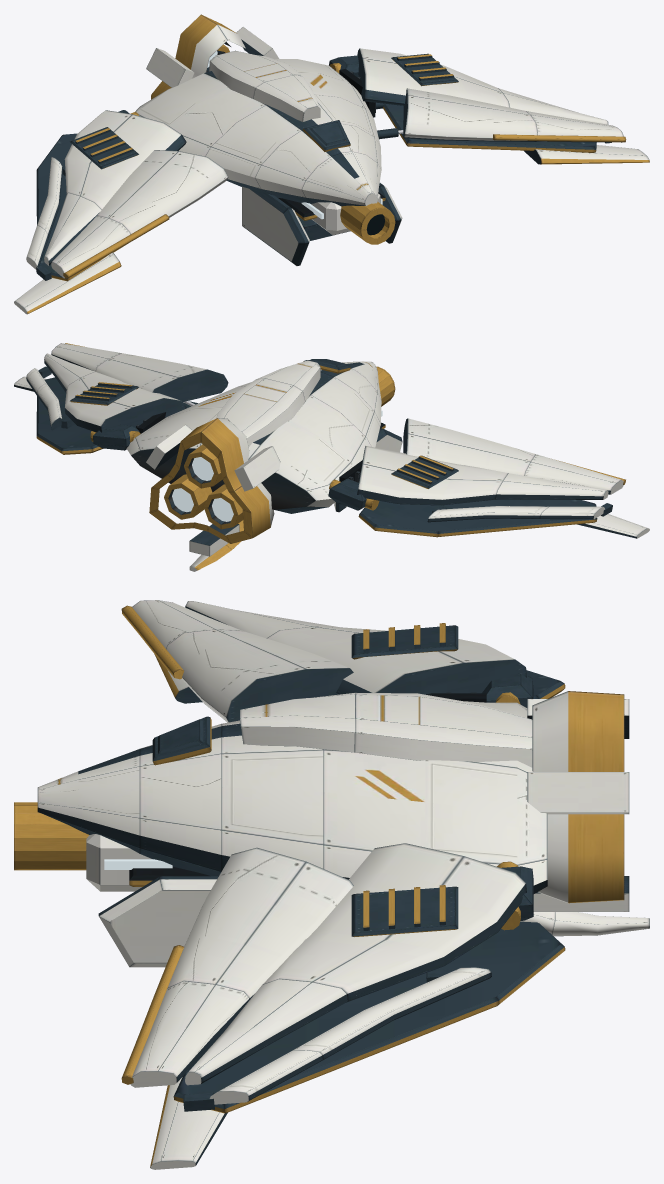
The model's file is voyager-europa-l10-laser.glb.
3 renders of one model, top to bottom at view 1: azimuth 30°, elevation 25°; view 2: azimuth 150°, elevation 25°; view 3: azimuth 270°, elevation 25°, orthographic. The views are drawn at different scales.
Visible parts, largest first — view 1: Drone; view 2: Drone; view 3: Drone.
Part boxes in pixels (x1,y1,x2,y2): Drone: (14,14,649,314); Drone: (14,343,649,571); Drone: (14,600,649,1169).
Size of the model in its own units: 2.22 by 0.4747 by 1.14.
Materials: 3 (3 with a texture image).
